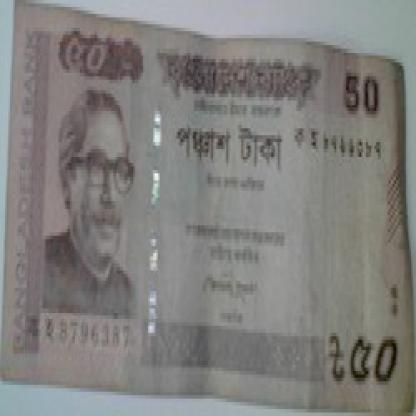Fifty taka: (341, 316, 401, 409), (65, 17, 110, 94)
